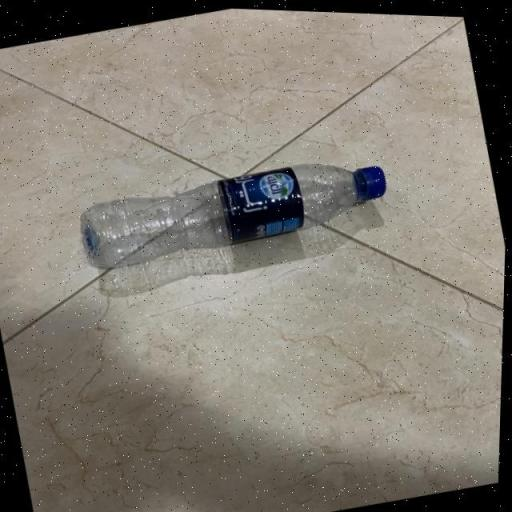plastic: (70, 135, 404, 289)
